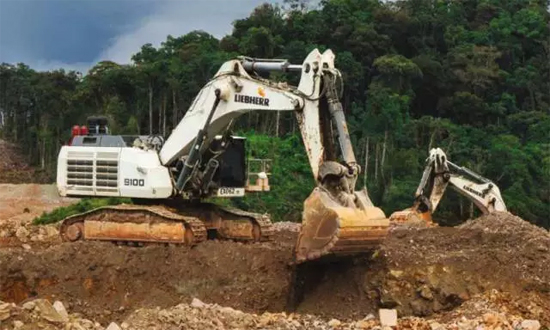excavator: (52, 35, 401, 272), (393, 134, 525, 239)
